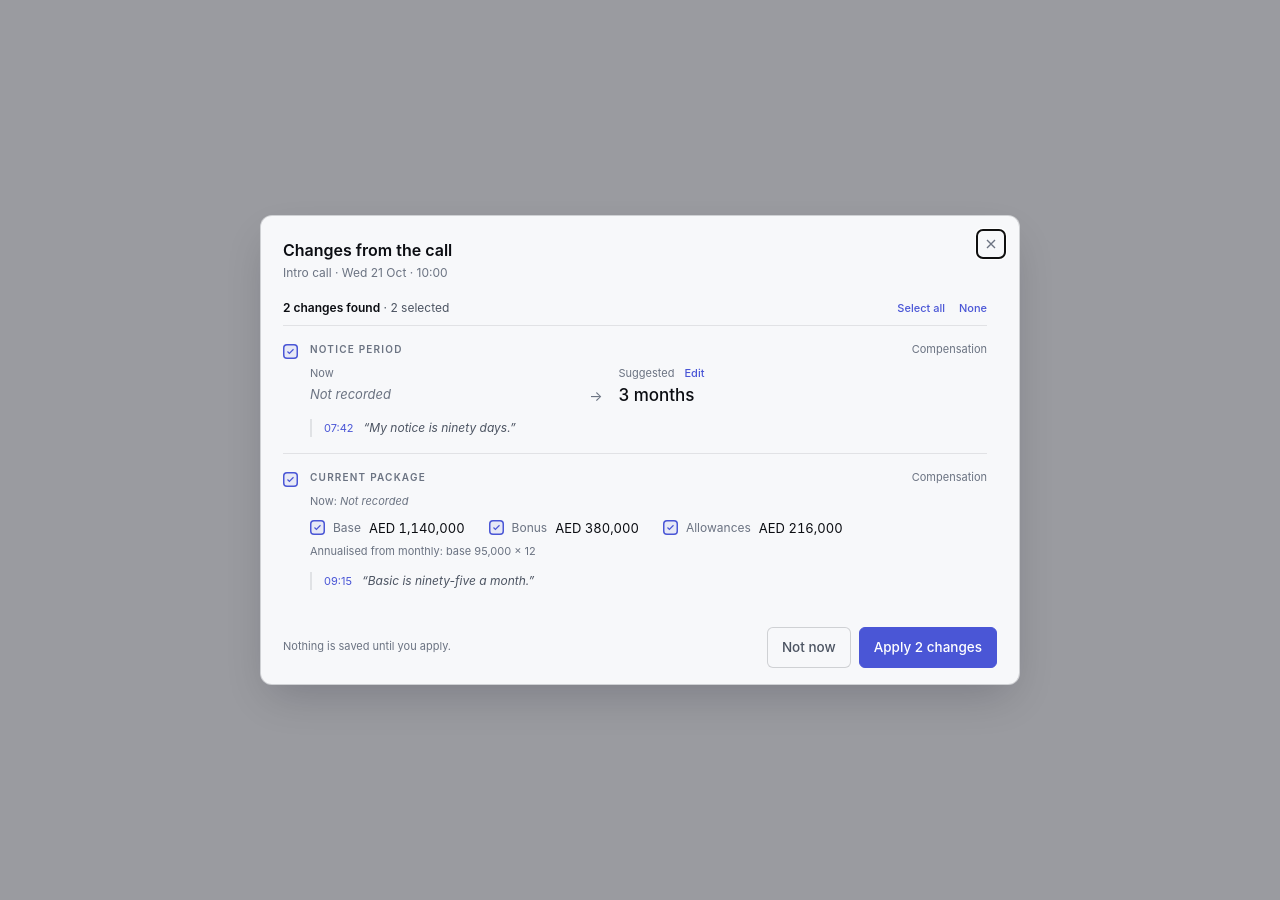
it: CallChangesDialog › shows a refused change on its own row and saves nothing
The image size is (1280, 900).
Click the button "Apply 2 changes": (928,647) x1=859 y1=627 x2=997 y2=668
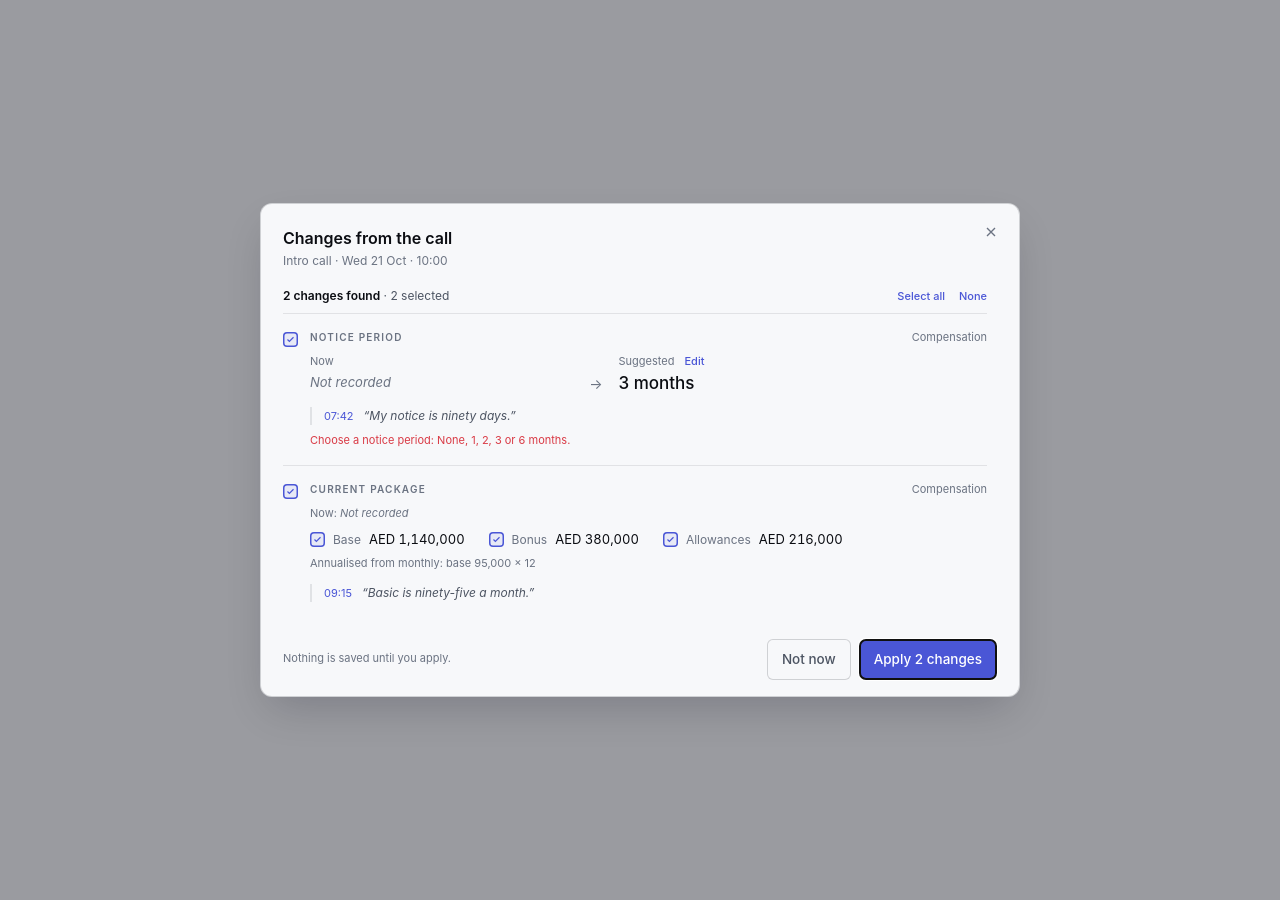
expect the message reads "Choose a notice period: None, 1, 2, 3 or 6 months.": met, box x1=310 y1=433 x2=570 y2=447
